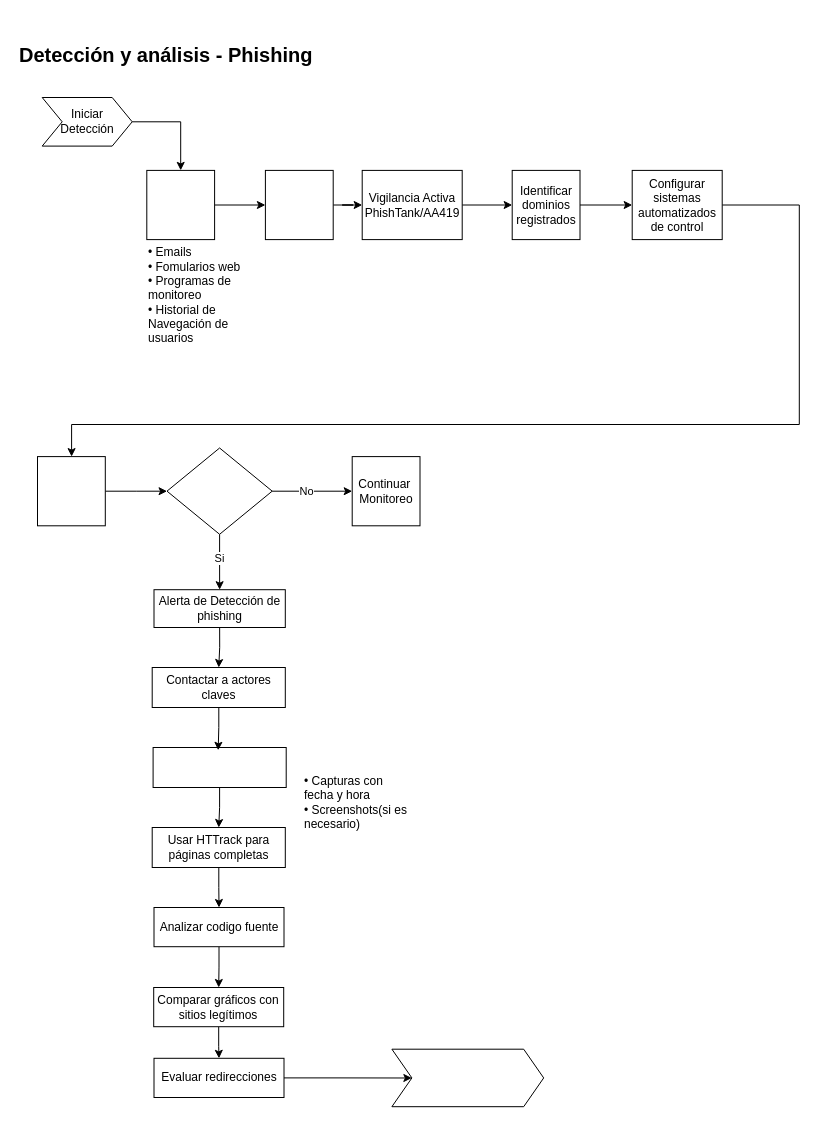
Image size: 825x1124. Some labels were removed from this diagram. Each missing label, with the box of its shape:
Analizar puntos de contacto: (146, 169, 215, 240)
Controlar logs web: (36, 456, 105, 526)
Implementar trampas de SPAM: (264, 169, 333, 240)
Reunir evidencia: (152, 746, 286, 788)
Siguiente (Contención): (391, 1048, 544, 1107)
¿Se detecto un incidente de phishing?: (166, 447, 272, 534)
